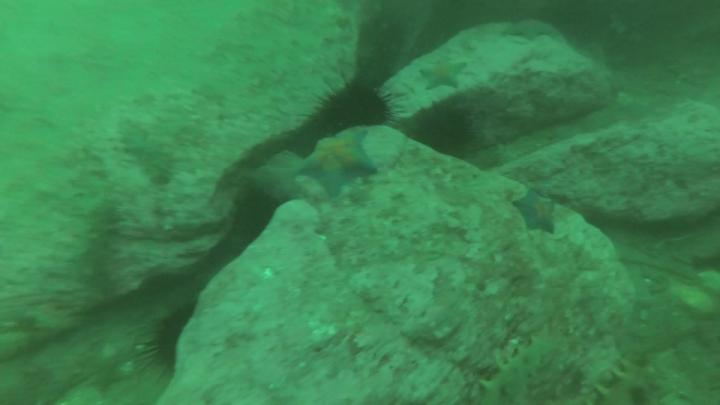echinus: (305, 80, 397, 136), (142, 300, 205, 380), (413, 103, 479, 161), (235, 192, 281, 241)
holothurian: (471, 324, 568, 405), (84, 198, 120, 300), (124, 119, 172, 186), (590, 358, 655, 405)
starfish: (297, 131, 382, 203), (513, 186, 562, 240), (418, 59, 469, 93), (501, 18, 560, 44)
